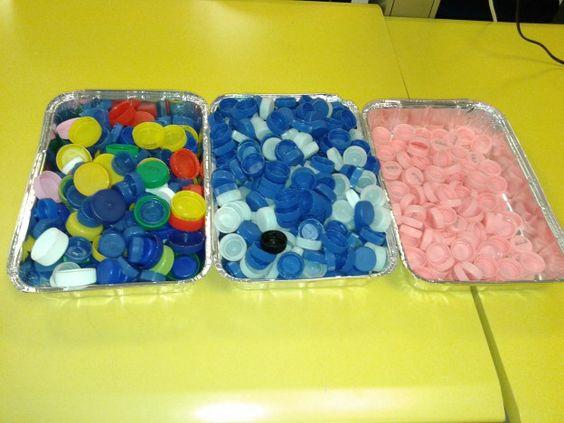HDPE: (22, 93, 204, 288), (420, 125, 493, 281), (30, 226, 69, 267), (73, 161, 112, 196), (88, 189, 125, 224), (65, 209, 103, 242), (169, 190, 206, 223), (67, 116, 102, 148), (56, 143, 91, 175), (166, 228, 206, 255), (169, 147, 200, 180), (33, 170, 63, 203), (53, 266, 98, 288), (135, 160, 169, 188), (274, 138, 304, 168), (276, 250, 306, 280), (97, 230, 127, 259), (132, 122, 164, 149), (218, 233, 247, 262), (158, 124, 186, 152), (213, 206, 241, 234), (423, 240, 452, 267), (259, 229, 288, 254), (297, 217, 326, 242), (322, 229, 351, 254), (296, 186, 319, 217), (239, 151, 265, 177), (450, 237, 476, 263), (519, 250, 546, 275), (353, 244, 377, 272), (498, 256, 523, 282), (326, 126, 353, 150), (360, 184, 385, 209), (111, 151, 136, 176), (264, 159, 290, 183), (331, 198, 355, 224), (291, 167, 318, 190), (254, 206, 277, 233), (265, 110, 289, 135), (369, 207, 392, 233), (342, 145, 367, 168), (355, 169, 378, 194), (273, 188, 299, 210), (400, 165, 424, 188), (353, 199, 374, 225), (214, 189, 244, 207), (358, 226, 385, 246), (209, 120, 232, 143), (328, 173, 350, 197), (244, 191, 269, 212), (402, 204, 427, 225), (310, 153, 336, 173), (295, 234, 323, 252), (210, 169, 236, 188), (127, 236, 144, 265), (235, 97, 258, 118), (381, 159, 402, 181), (428, 204, 444, 231), (424, 165, 447, 183), (407, 138, 428, 157), (436, 184, 458, 202)
